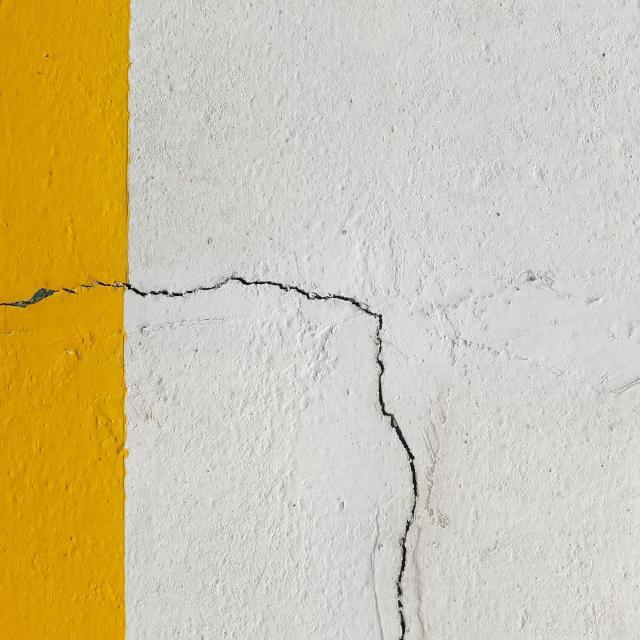SurfaceCrack: (132, 244, 447, 638), (0, 247, 126, 359)
